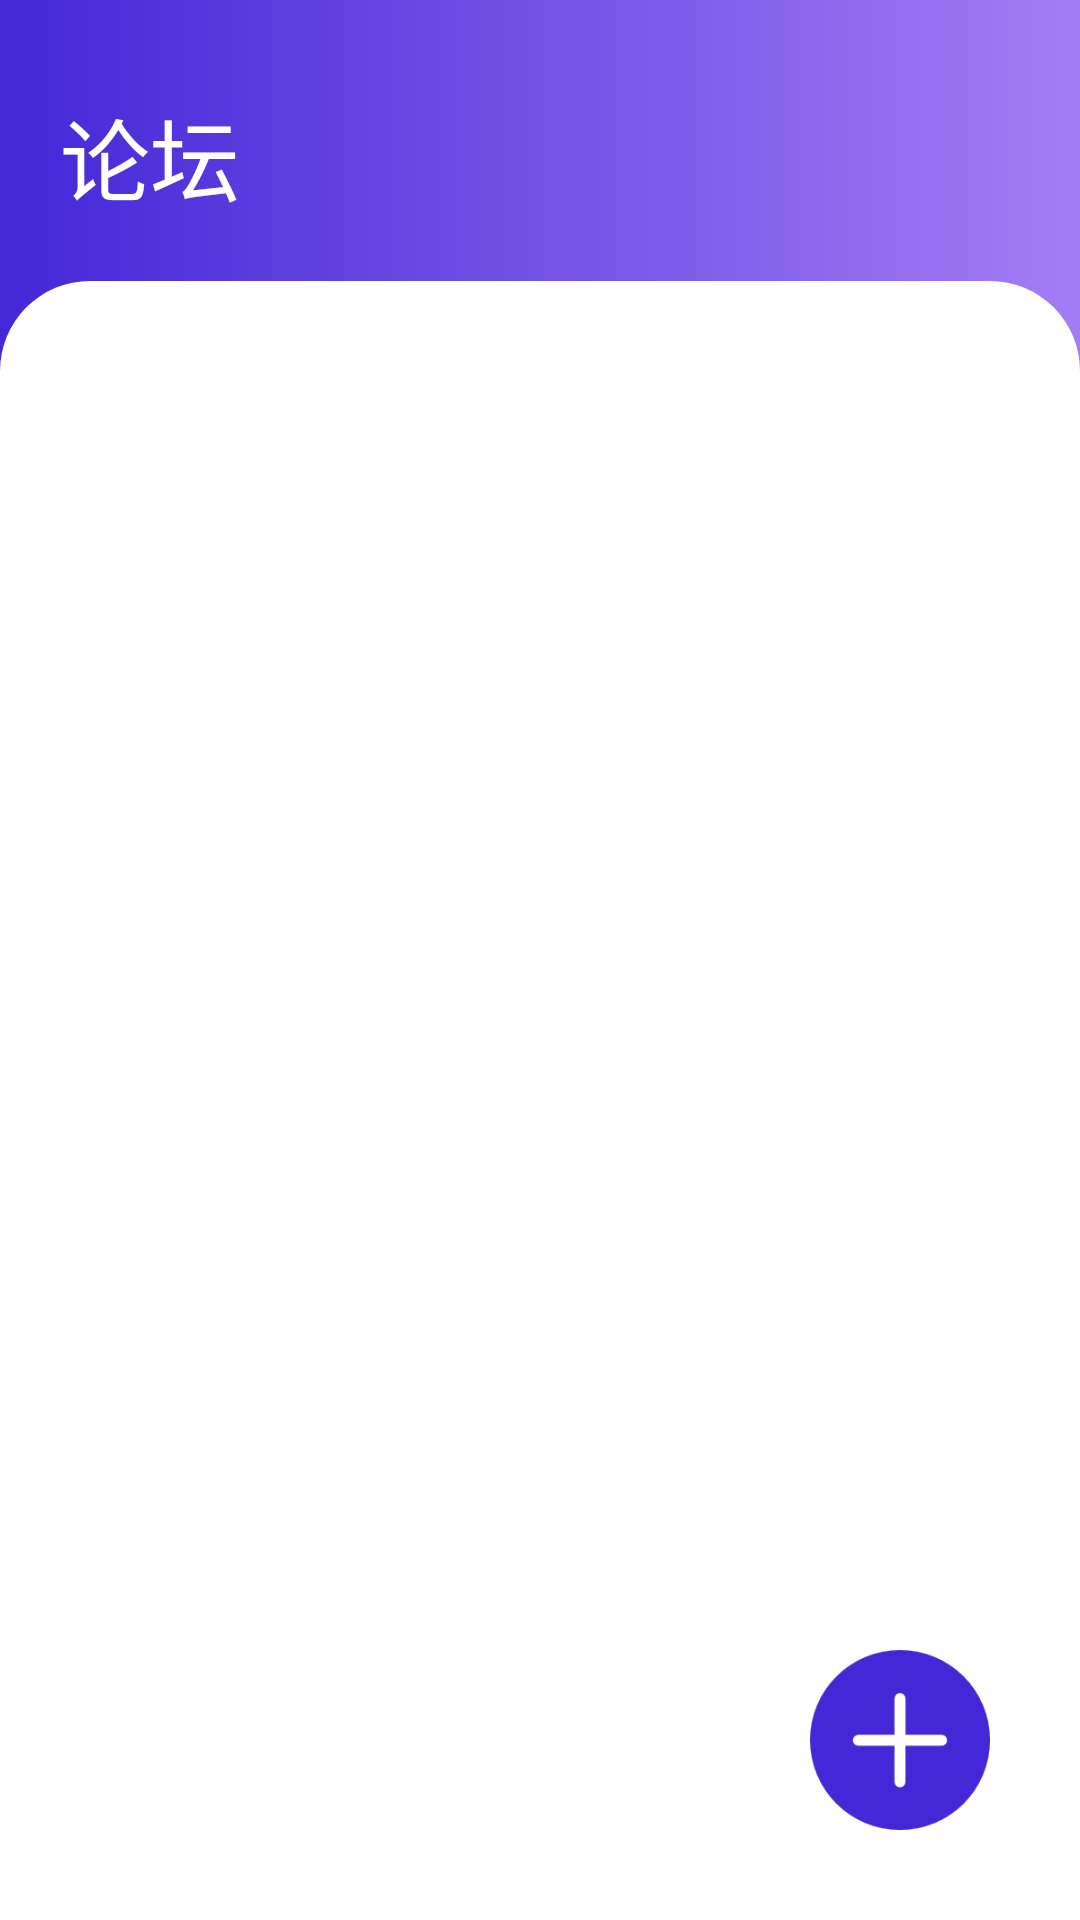

Screen size 1080w x 1920h. Icon name, then its center in pixels as (x,y):
fabu purpl: (900,1740)
